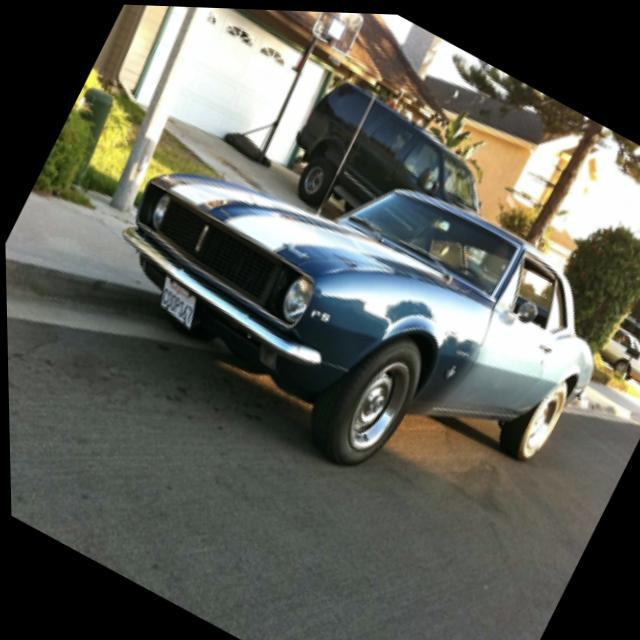license_plate: (142, 269, 209, 334)
